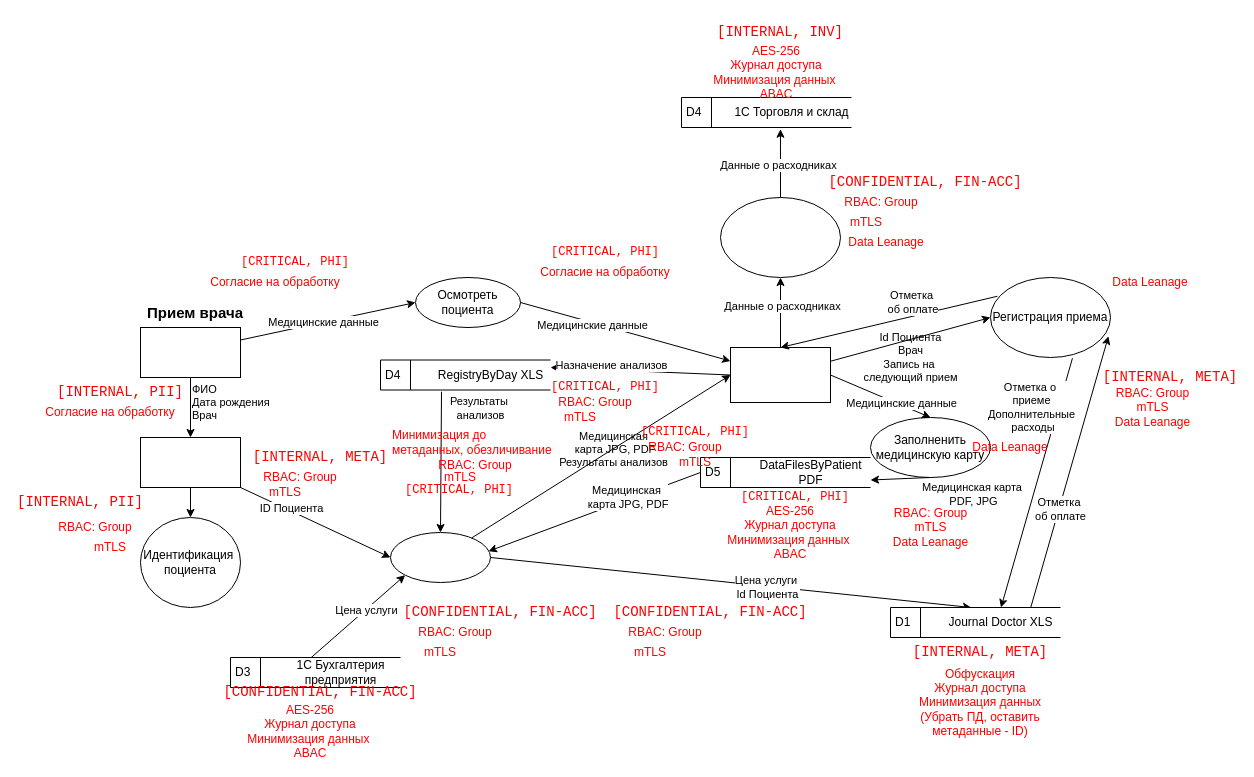
The diagram is 1254 pixels wide and 777 high, and some of its shapes have lost their labels. The centre of each missing label's shape, as x and y in pixels:
"Врач" goes at point 780,374.
"Клиент" goes at point 190,352.
"Подготовка к приему" goes at point 440,557.
"Ресепшн" goes at point 190,462.
"Списать расходники" goes at point 780,237.
